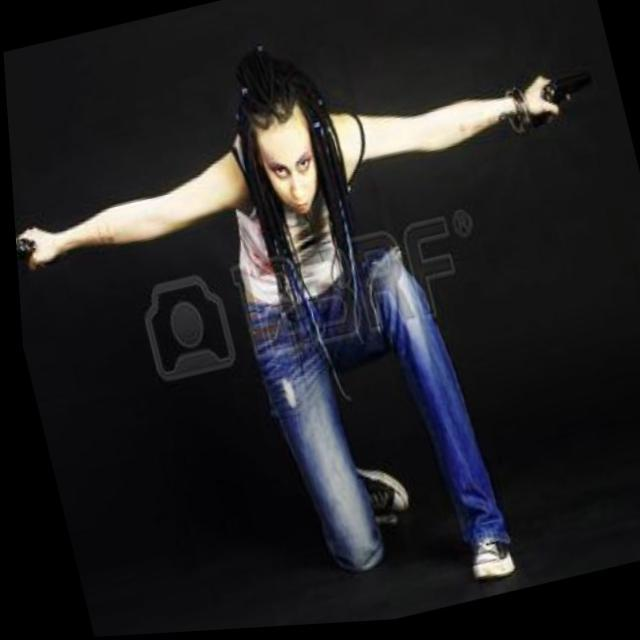weapon: (0, 0, 640, 640), (12, 229, 36, 269)
